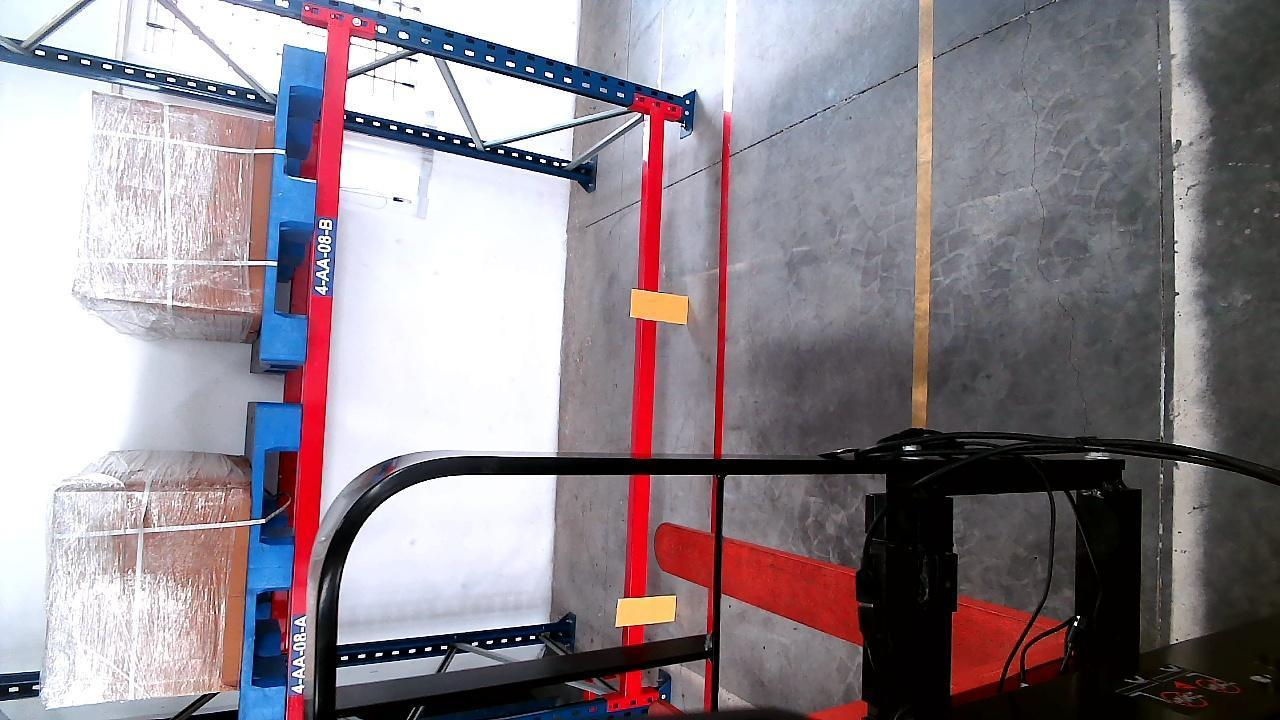h_rack: (290, 28, 349, 719), (629, 115, 663, 693)
orange_strip: (616, 594, 677, 627), (633, 291, 688, 322)
red_line: (712, 112, 734, 451)
small_pallet: (239, 404, 301, 720), (264, 43, 323, 362), (10, 698, 288, 720)
yellow_line: (911, 0, 937, 431)
